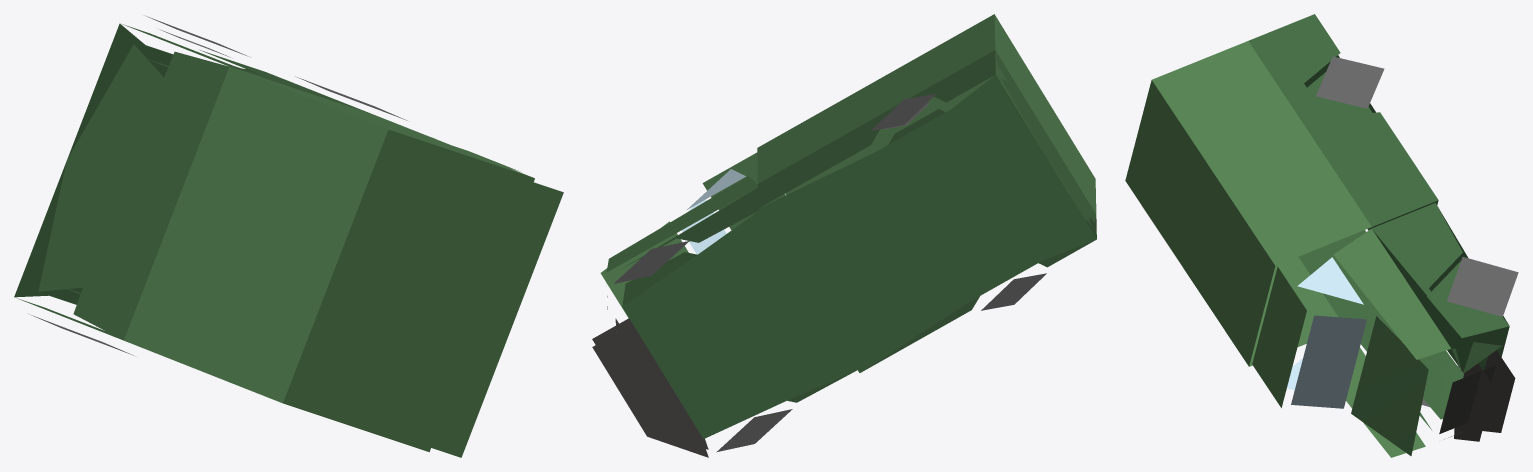
The model's file is Truck_2-0.2.gltf.
The picture shows the model from 3 angles, left to right: view 1: azimuth 30°, elevation 25°; view 2: azimuth 150°, elevation 25°; view 3: azimuth 270°, elevation 25°; orthographic projection. The views are drawn at different scales.
Parts seen in each view (by area): view 1: Truck_2; view 2: Truck_2; view 3: Truck_2.
Part boxes in pixels (x1,y1,x2,y2): Truck_2: [14, 15, 563, 457]; Truck_2: [592, 14, 1096, 457]; Truck_2: [1125, 14, 1518, 457].
Size of the model in its own units: 0.0745 by 0.0635 by 0.0674.
1 material, 1 textured.
